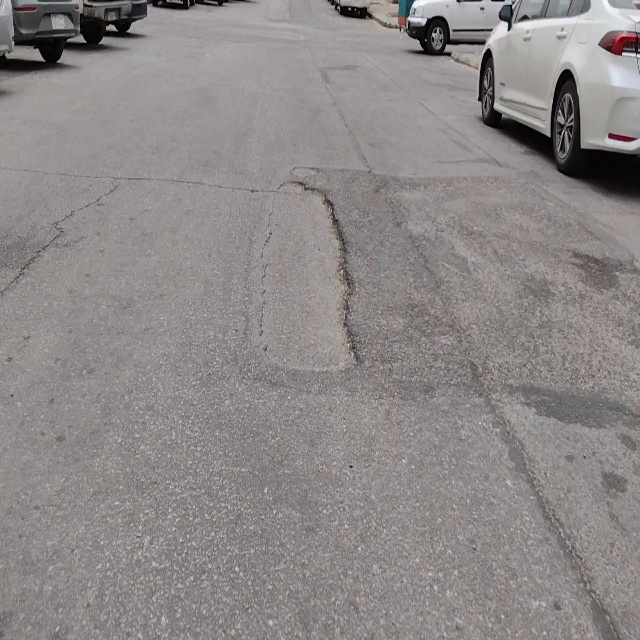pothole: (260, 178, 358, 367)
